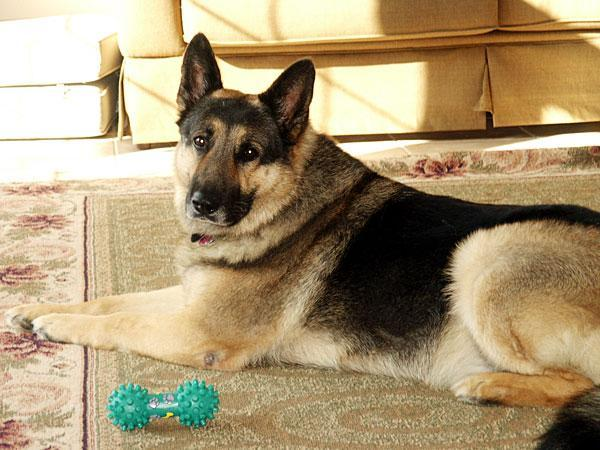German_shepherd: (3, 31, 598, 448)
